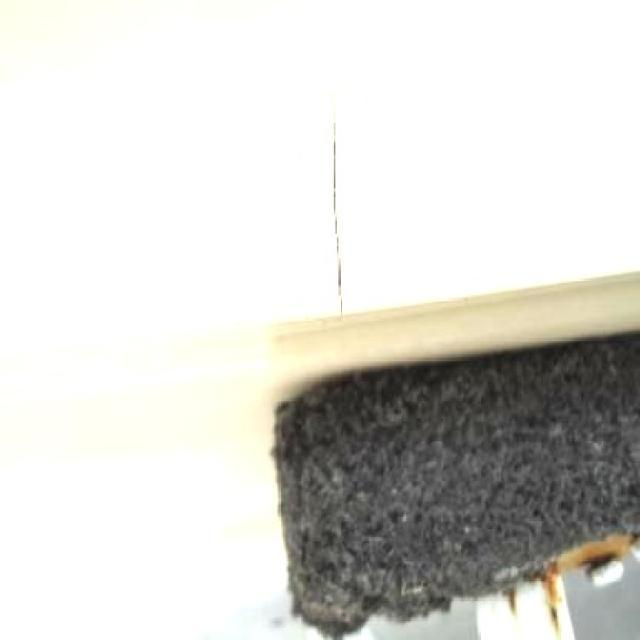crack: (333, 112, 346, 312)
